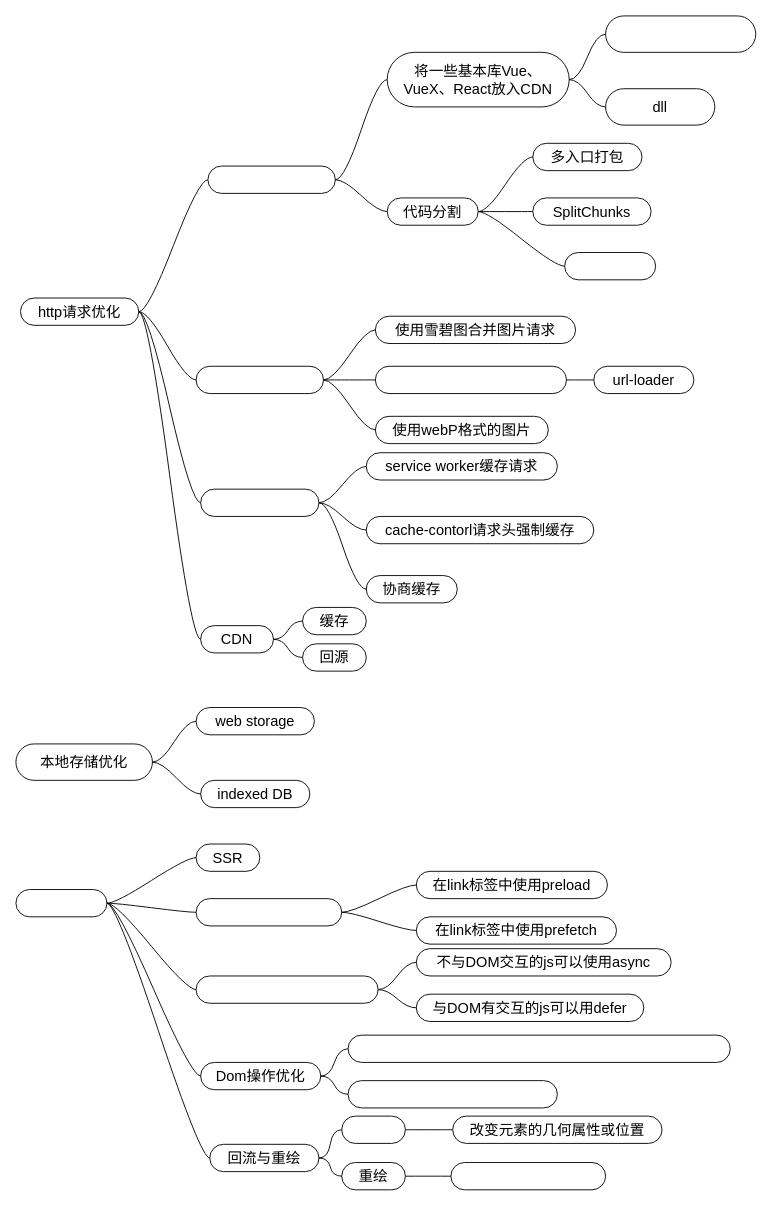
Image size: 772x1206. Some labels were removed from this diagram. Here are the shapes that lost their labels. From the top down, the box of each, then its label:
(605, 15, 756, 52): webpack.externals
(207, 165, 335, 193): 代码请求优化
(564, 252, 656, 280): 按需加载
(195, 365, 324, 394): 图片请求优化
(374, 365, 566, 394): 使用base64变码小图片
(200, 488, 319, 516): http请求缓存
(15, 889, 107, 917): 渲染优化
(195, 898, 342, 926): css放在header中
(195, 975, 378, 1003): js文件放在body的最后
(347, 1034, 730, 1062): 减少不必要的Dom操作（createDocumentFragment）
(347, 1080, 557, 1108): 对dom的更新放在微任务中
(341, 1115, 405, 1143): 回流
(450, 1162, 606, 1190): 改变元素的颜色等
